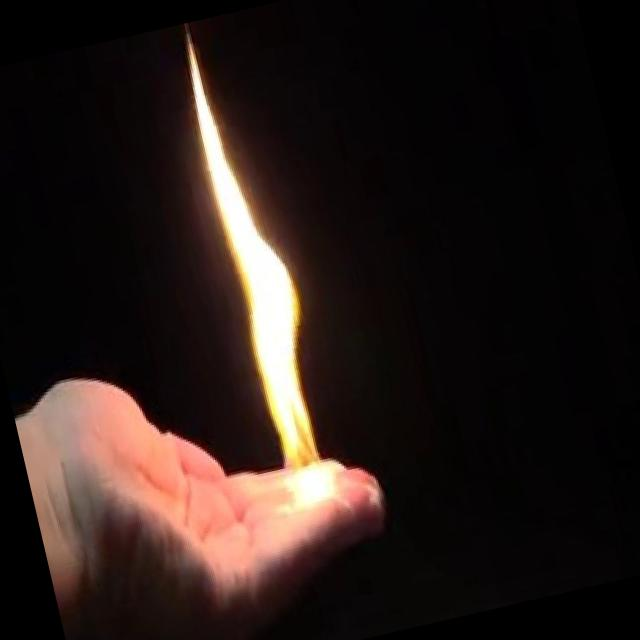Fire: (161, 25, 341, 542)
